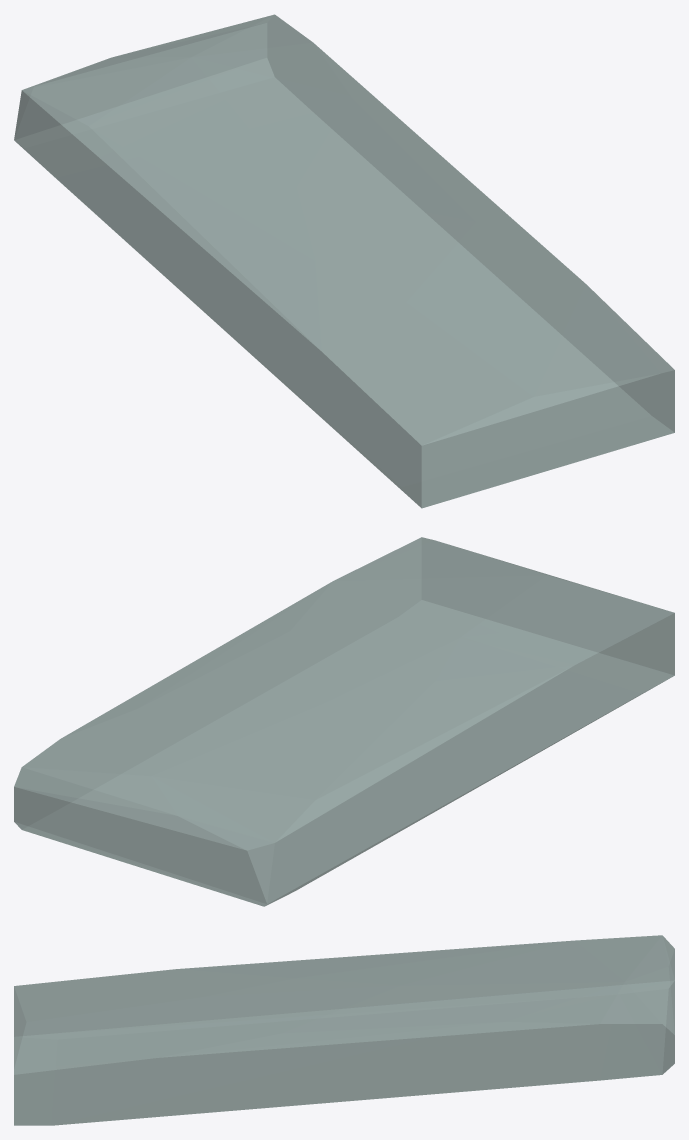
3 renders of one model, top to bottom at view 1: azimuth 30°, elevation 25°; view 2: azimuth 150°, elevation 25°; view 3: azimuth 270°, elevation 25°, orthographic. The views are drawn at different scales.
Parts seen in each view (by area): view 1: Shape_IndexedFaceSet.010_Shape_IndexedFaceSet.7616; view 2: Shape_IndexedFaceSet.010_Shape_IndexedFaceSet.7616; view 3: Shape_IndexedFaceSet.010_Shape_IndexedFaceSet.7616.
Boxes of the visible parts, x1,y1,x2,y2 form: Shape_IndexedFaceSet.010_Shape_IndexedFaceSet.7616: (14, 14, 674, 508); Shape_IndexedFaceSet.010_Shape_IndexedFaceSet.7616: (14, 537, 674, 906); Shape_IndexedFaceSet.010_Shape_IndexedFaceSet.7616: (14, 935, 674, 1125).
Bounding box in the file's own units: 0.0777 × 0.0409 × 0.2167.
